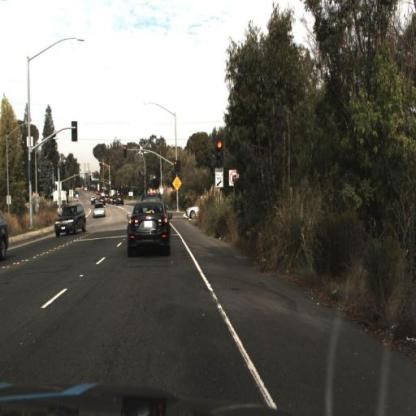car: (125, 201, 171, 258), (55, 205, 86, 239), (185, 200, 207, 221), (185, 203, 203, 221)
trafficLight-Red: (215, 139, 226, 167), (124, 144, 130, 162), (173, 160, 179, 178)
